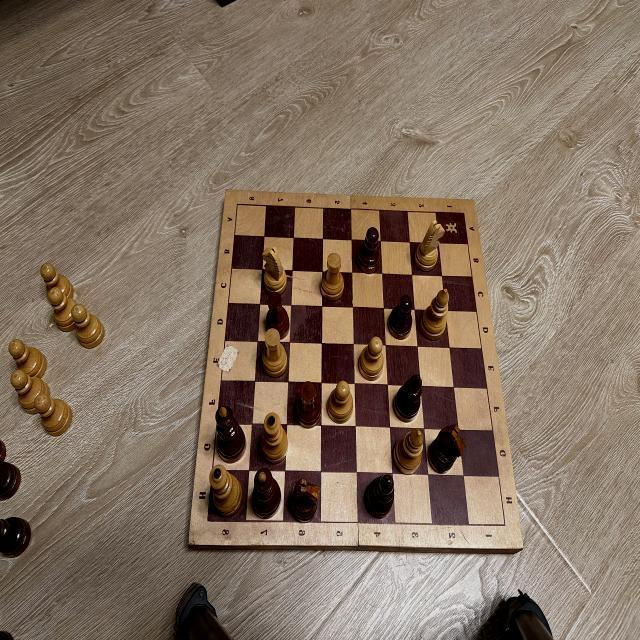chess-table-corners: (232, 200, 242, 209), (204, 517, 210, 526), (461, 209, 467, 217), (501, 522, 509, 528)
